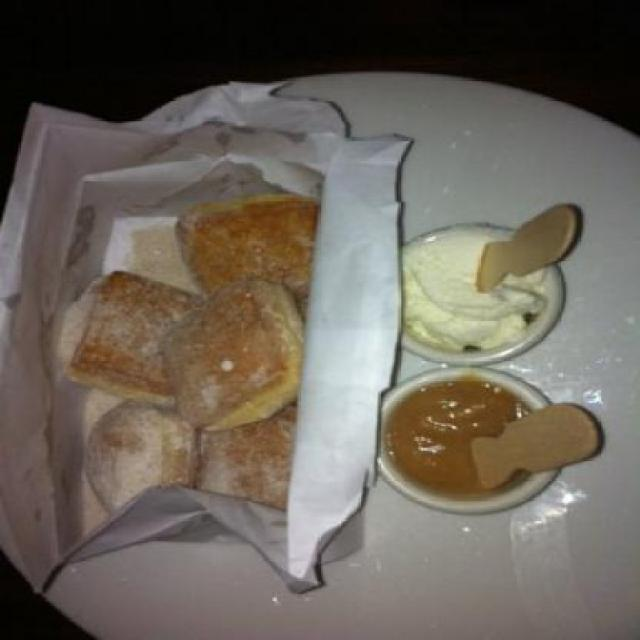Donuts: (38, 180, 320, 549)
